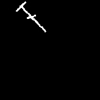double_crochet: (16, 2, 45, 31)
